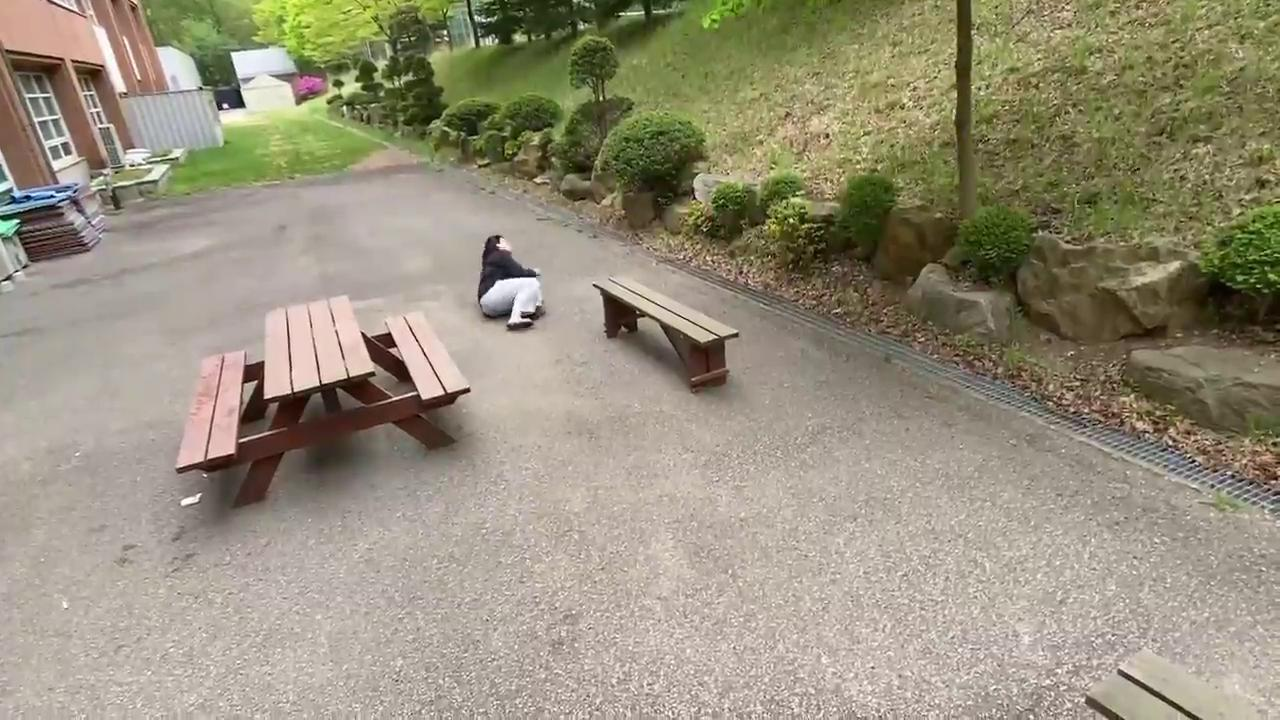fall_down: (478, 231, 547, 334)
